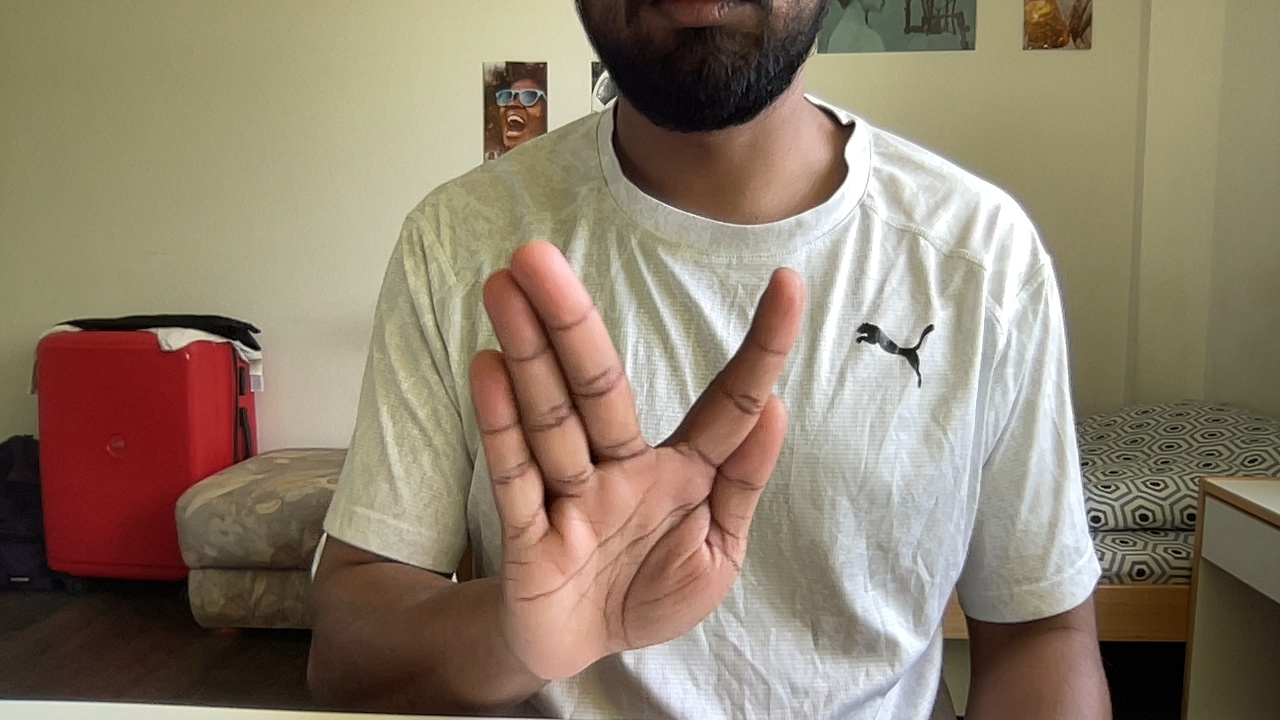LiveLong: (465, 236, 804, 682)
